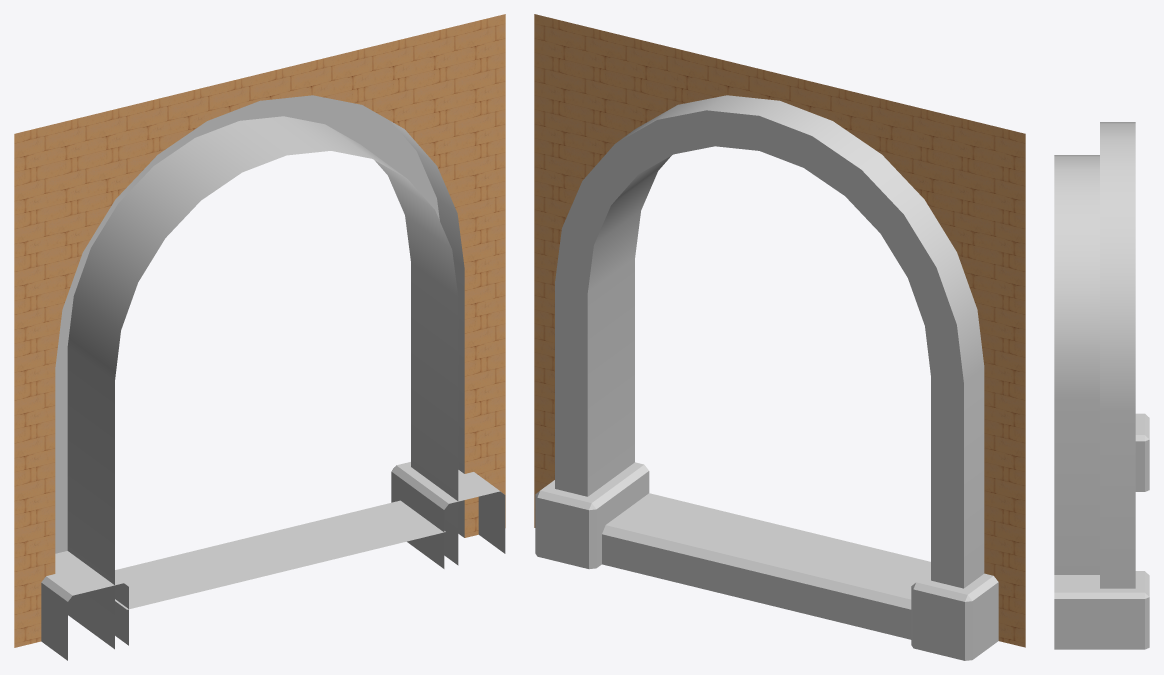
File: Arc_Wall_6x6.fbx
The picture shows the model from 3 angles, left to right: view 1: azimuth 30°, elevation 25°; view 2: azimuth 150°, elevation 25°; view 3: azimuth 270°, elevation 25°; orthographic projection. The views are drawn at different scales.
Parts seen in each view (by area): view 1: Arc_Wall_6x6; view 2: Arc_Wall_6x6; view 3: Arc_Wall_6x6.
Boxes of the visible parts, x1,y1,x2,y2 form: Arc_Wall_6x6: (14,14,505,660); Arc_Wall_6x6: (534,14,1025,660); Arc_Wall_6x6: (1054,122,1149,649).
Size of the model in its own units: 600 by 600 by 117.
